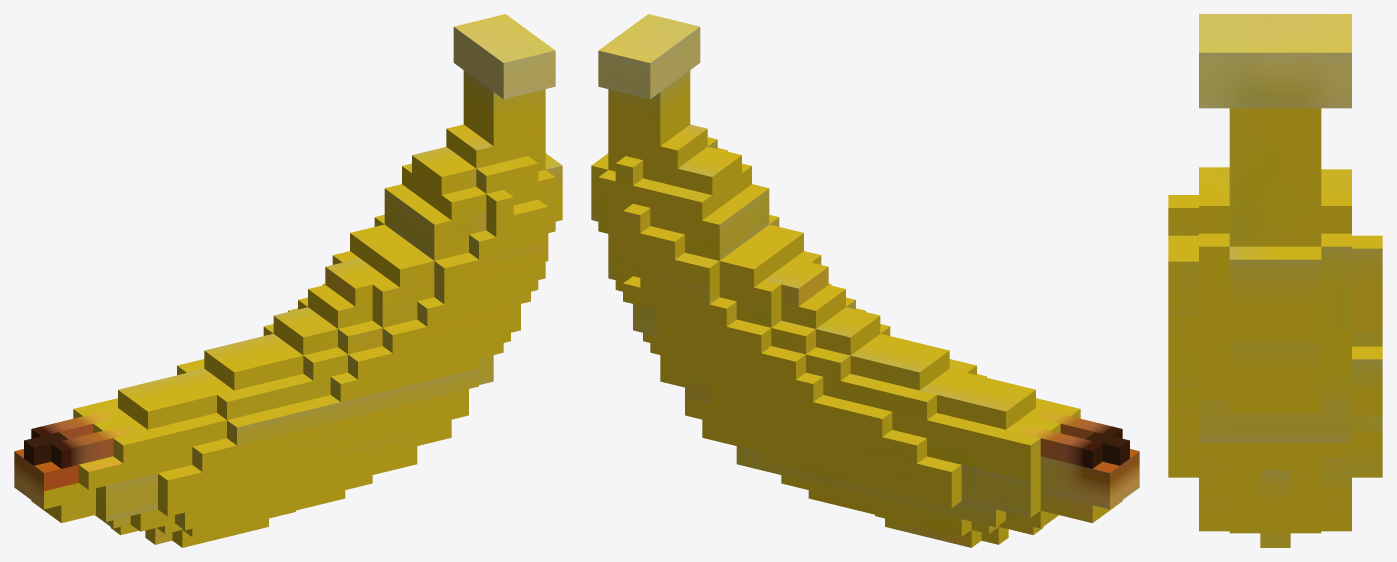
Rendered from banana-v1.glb.
The picture shows the model from 3 angles, left to right: view 1: azimuth 30°, elevation 25°; view 2: azimuth 150°, elevation 25°; view 3: azimuth 270°, elevation 25°; orthographic projection. The views are drawn at different scales.
Visible parts, largest first — view 1: banana; view 2: banana; view 3: banana.
Part boxes in pixels (bbox=[...]): banana: bbox=[14, 14, 562, 547]; banana: bbox=[591, 14, 1139, 547]; banana: bbox=[1168, 14, 1382, 547].
Size of the model in its own units: 30 by 23 by 7.
1 material, 1 textured.
